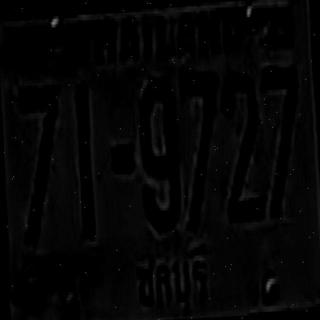N00: (137, 77, 181, 232)
N01: (74, 82, 96, 238)
N02: (221, 72, 263, 221)
N07: (18, 85, 64, 242), (179, 71, 222, 228), (261, 64, 303, 216), (18, 85, 62, 212)
N09: (137, 76, 181, 231)
P13: (131, 238, 210, 316)
